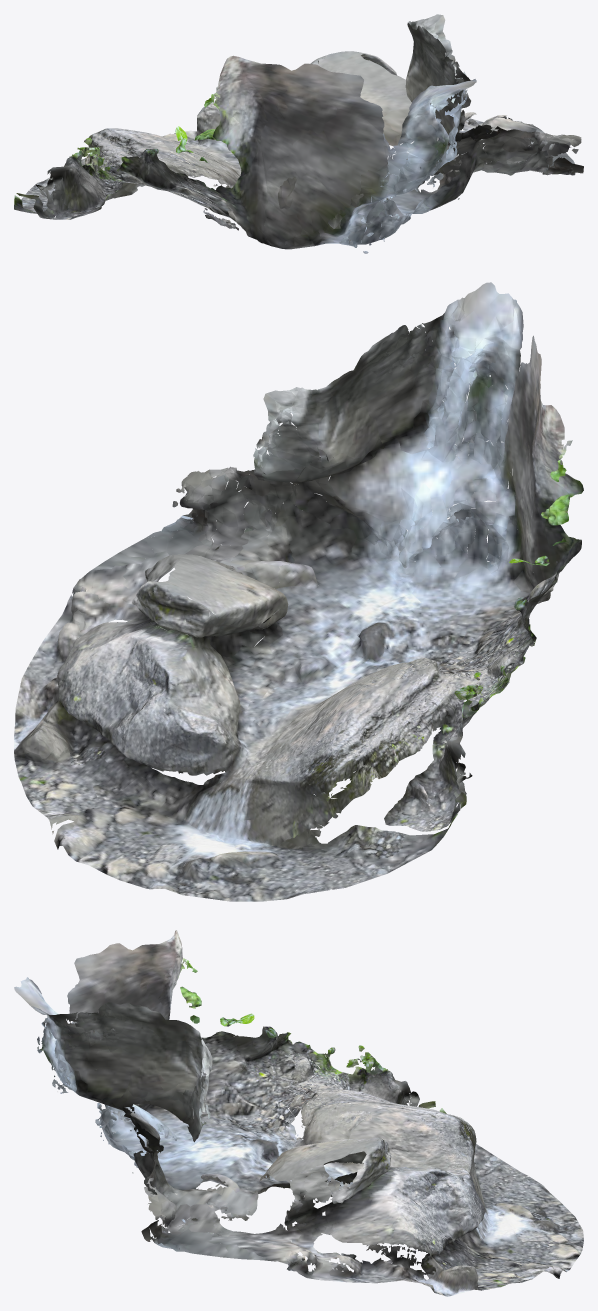
Rendered from Jotunheim_Waterfall_Mountain.glb.
3 views of the same model, one above another, from view 1: azimuth 30°, elevation 25°; view 2: azimuth 150°, elevation 25°; view 3: azimuth 270°, elevation 25° (orthographic). The views are drawn at different scales.
Parts seen in each view (by area): view 1: Object_2, Object_3; view 2: Object_2, Object_3; view 3: Object_2, Object_3.
Part boxes in pixels (left/top/right/bottom): Object_2: left=14, top=14, right=583, bottom=253; Object_3: left=16, top=56, right=574, bottom=249; Object_2: left=14, top=282, right=583, bottom=901; Object_3: left=49, top=357, right=569, bottom=865; Object_2: left=14, top=930, right=583, bottom=1296; Object_3: left=46, top=957, right=560, bottom=1280.
Size of the model in its own units: 4.52 by 2.97 by 5.87.
Materials: 1 (1 with a texture image).
